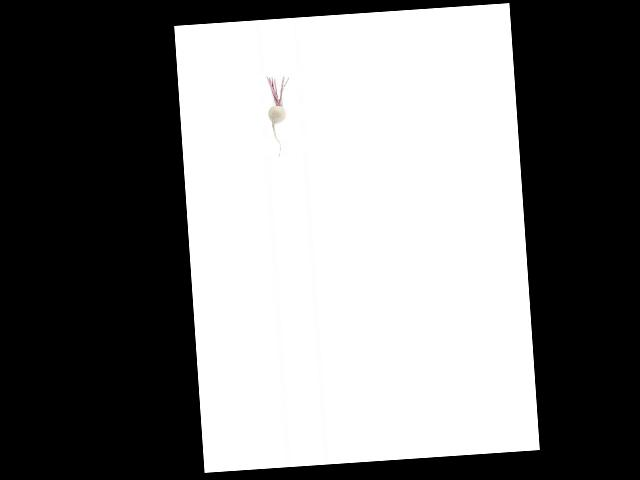beet: (265, 75, 293, 158)
